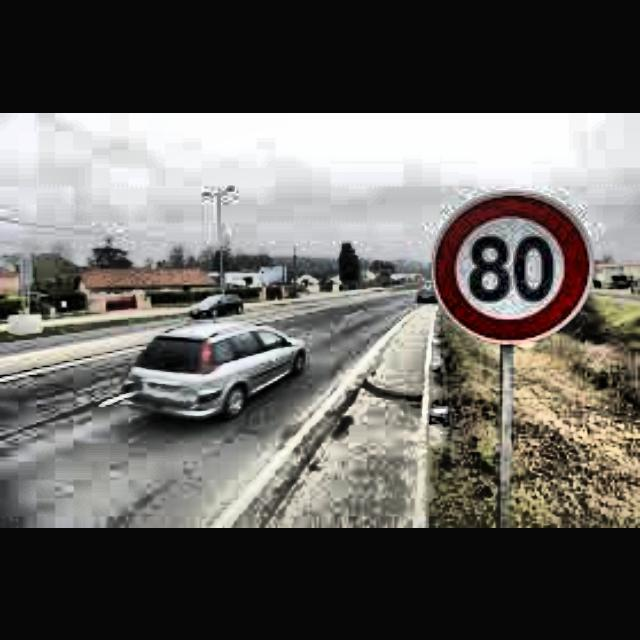speed_80: (431, 189, 591, 341)
